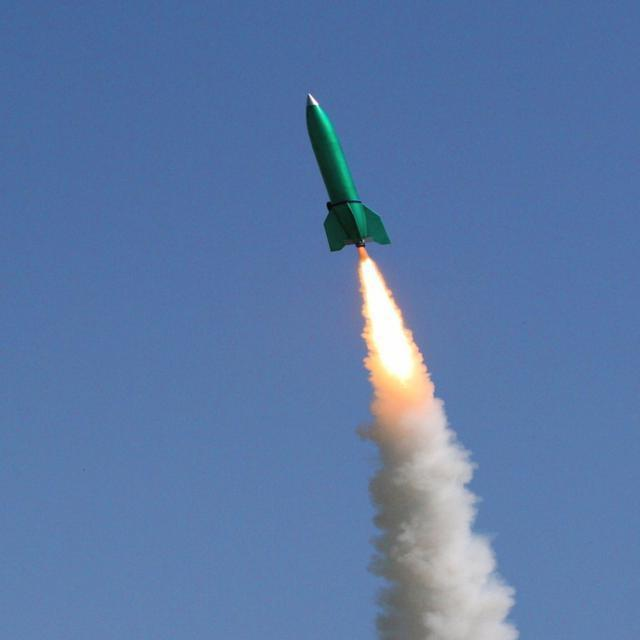missile: (306, 91, 421, 253)
